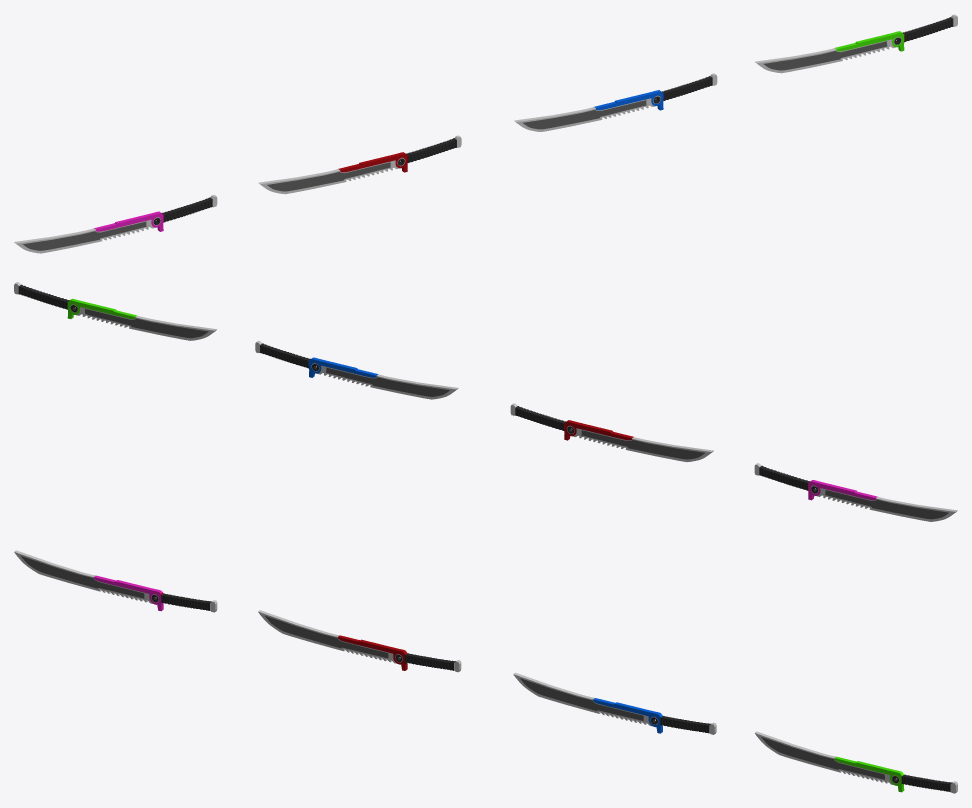
File: Swords.fbx
3 renders of one model, top to bottom at view 1: azimuth 30°, elevation 25°; view 2: azimuth 150°, elevation 25°; view 3: azimuth 330°, elevation 25°, orthographic.
Parts seen in each view (by area): view 1: Cube.002, Cube.001, Cube, Cube.003; view 2: Cube, Cube.001, Cube.002, Cube.003; view 3: Cube.002, Cube.003, Cube.001, Cube.
Boxes of the visible parts, box(x1,y1,x2,y2) form: Cube.002: box(14, 195, 217, 253); Cube.001: box(514, 73, 717, 131); Cube: box(258, 135, 461, 194); Cube.003: box(755, 14, 957, 73); Cube: box(510, 403, 713, 461); Cube.001: box(255, 340, 458, 399); Cube.002: box(754, 463, 957, 521); Cube.003: box(14, 282, 216, 340); Cube.002: box(14, 550, 217, 612); Cube.003: box(755, 731, 957, 793); Cube.001: box(513, 672, 716, 734); Cube: box(258, 610, 461, 672).
Size of the model in its own units: 2104 by 50.48 by 12.71.
